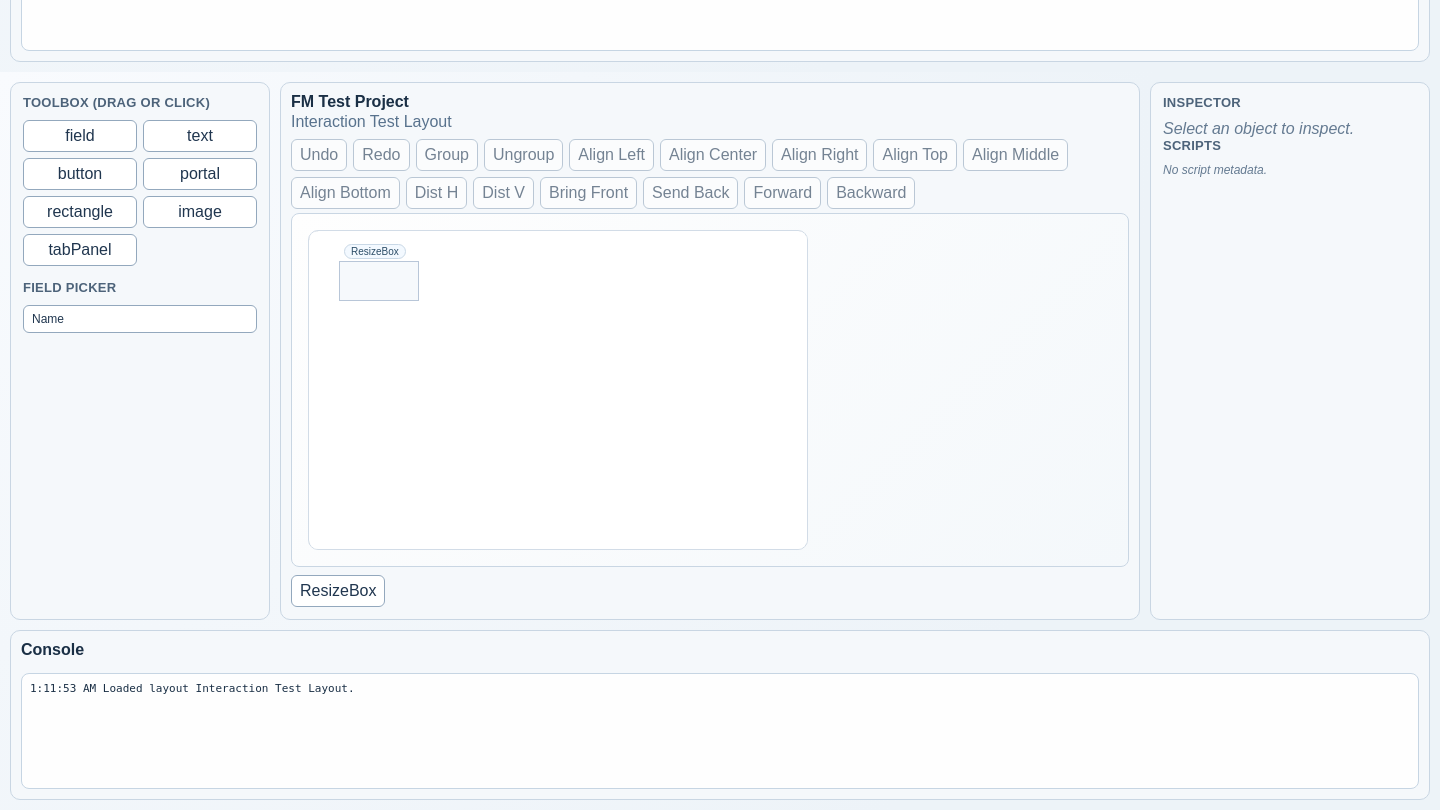
Test: designer canvas interactions › supports resize handles on selected objects
This screenshot has width=1440, height=810.
(page scrolled)
Click the button "ResizeBox": (338, 591) top-left (291, 575), bottom-right (386, 607)
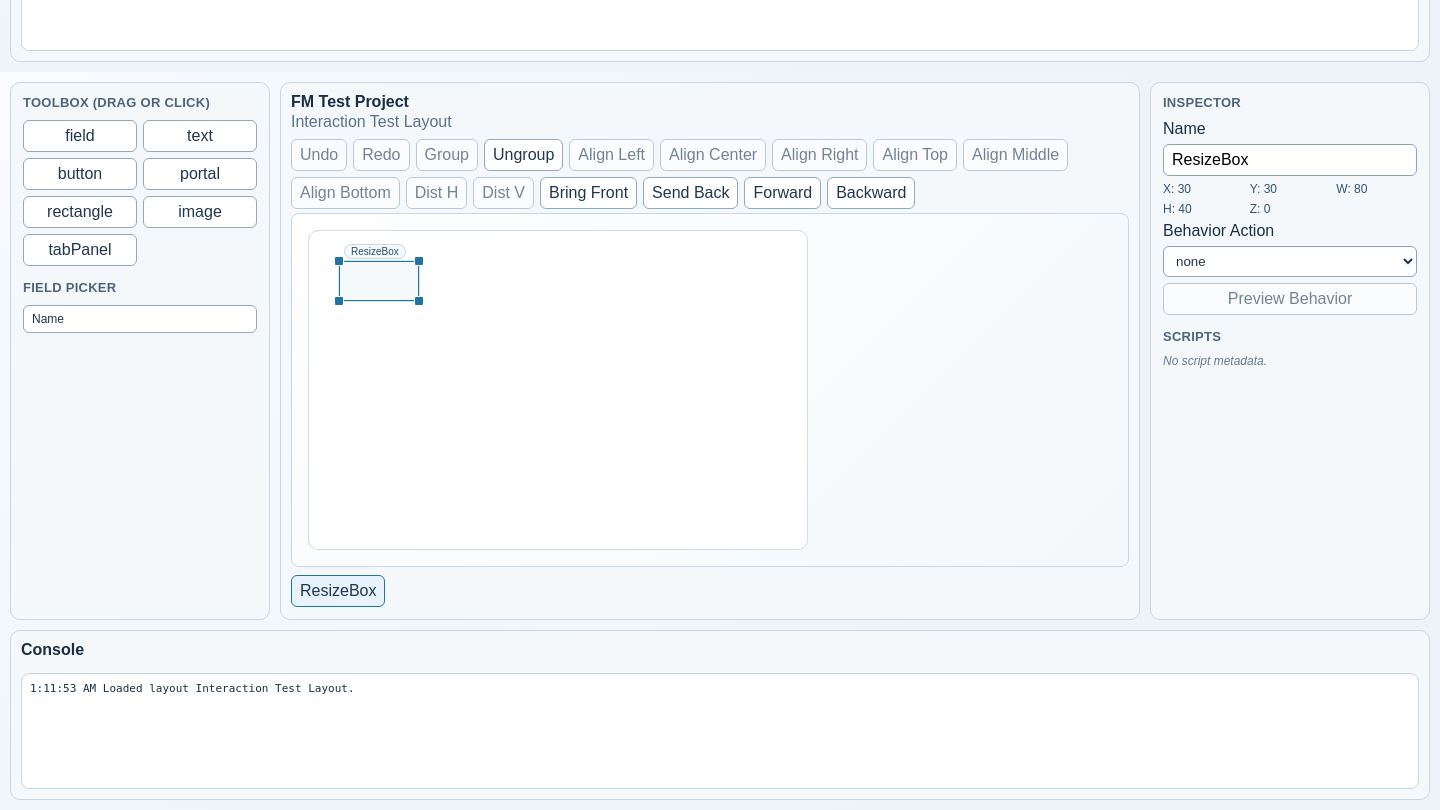
Press the mouse on the button with class "handle-se": (419, 301) top-left (414, 296), bottom-right (424, 306)
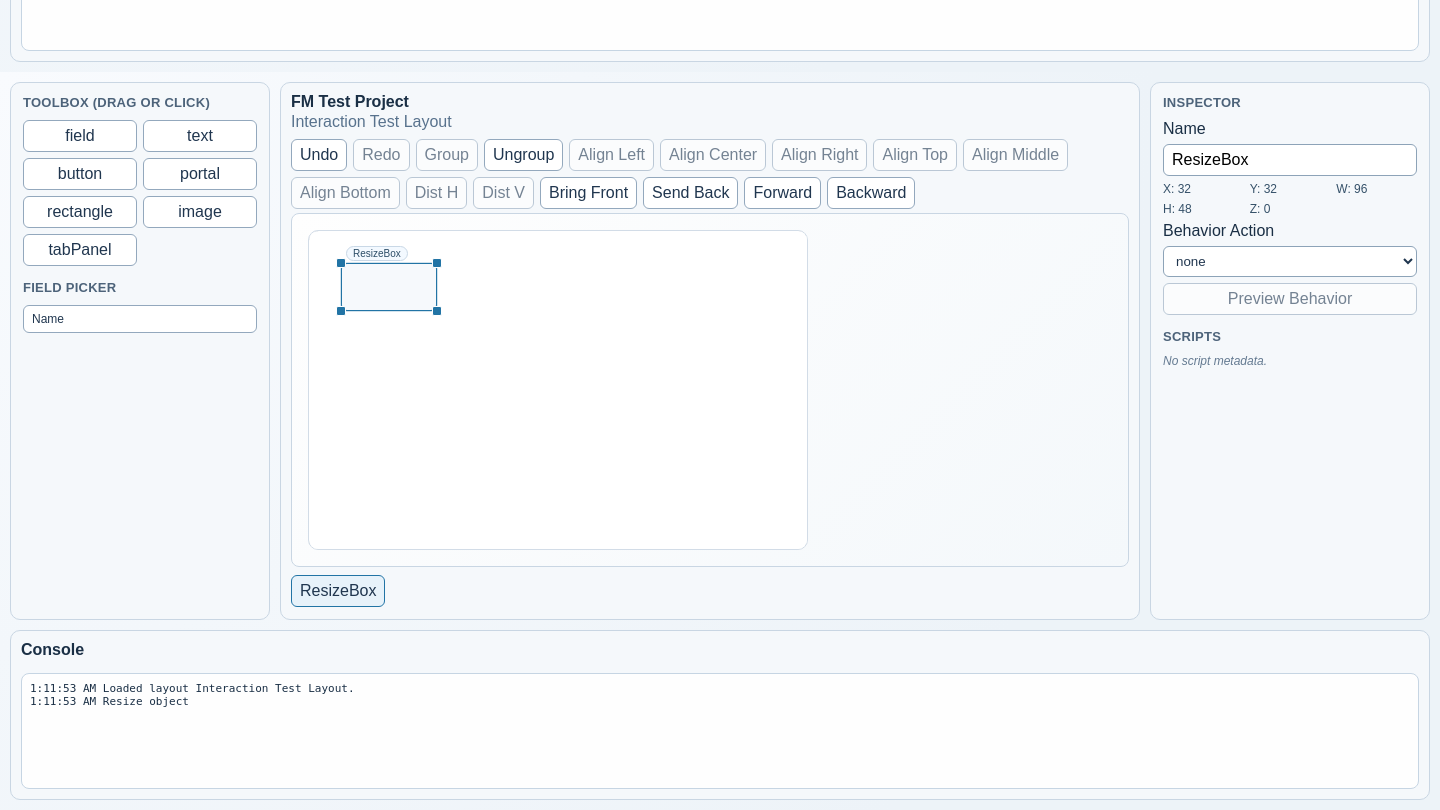
Result: the text "W: 96" is shown at top-left (1336, 182), bottom-right (1367, 196)
Result: the text "H: 48" is shown at top-left (1163, 202), bottom-right (1192, 216)
